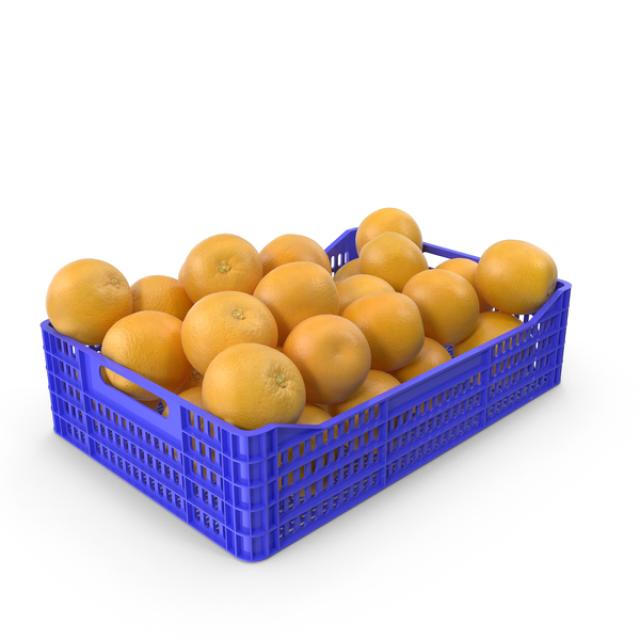basket: (37, 237, 607, 591)
